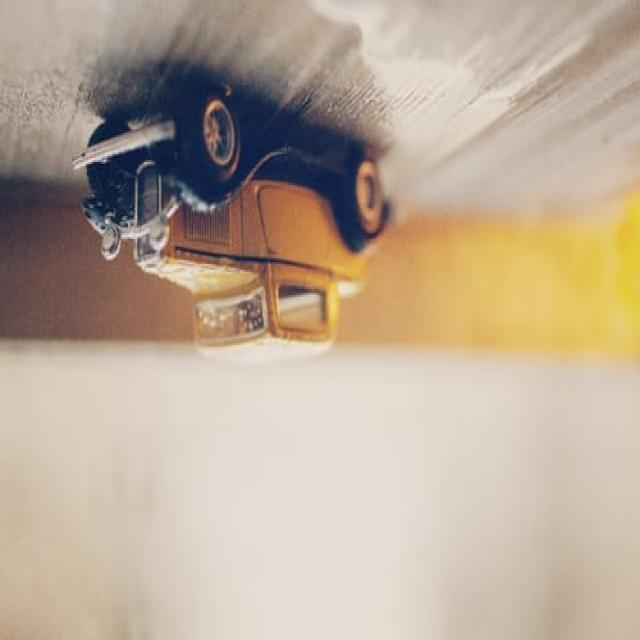Car: (1, 83, 392, 360), (76, 83, 393, 360)
